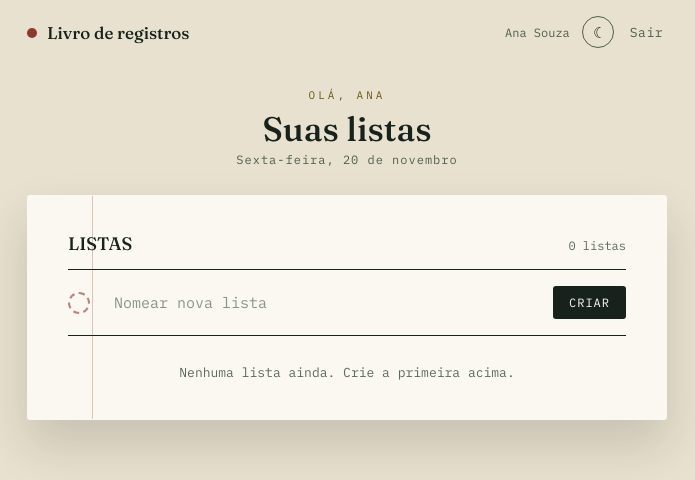
Test: ListsPage › cria uma lista
Type "  Feira " into the field labelled "nova lista" at [322, 302], box [104,288,539,316]
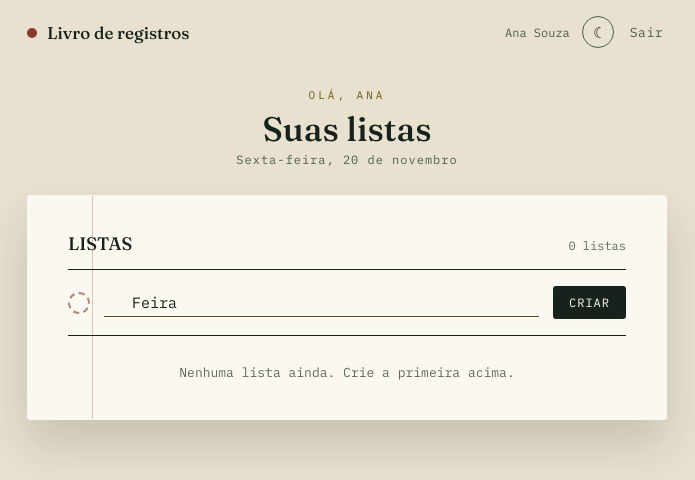
Click the button "Criar" at [590, 302], box [553,286,626,319]
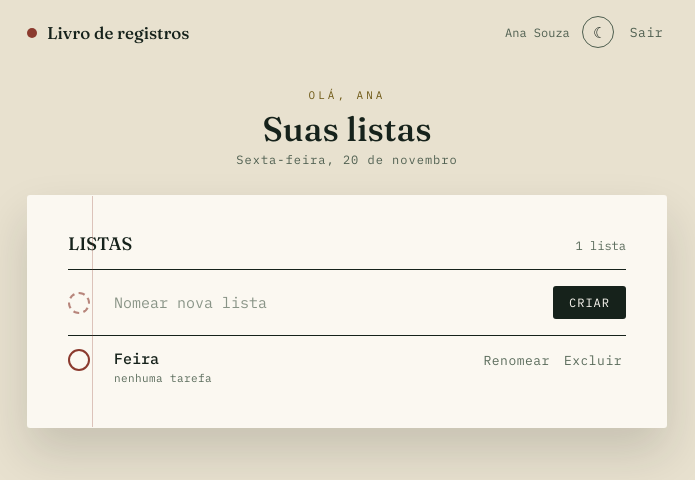
Now the link "Feira" is shown, box [114,349,159,368]
Now the field labelled "nova lista" is empty, box [104,288,539,316]
